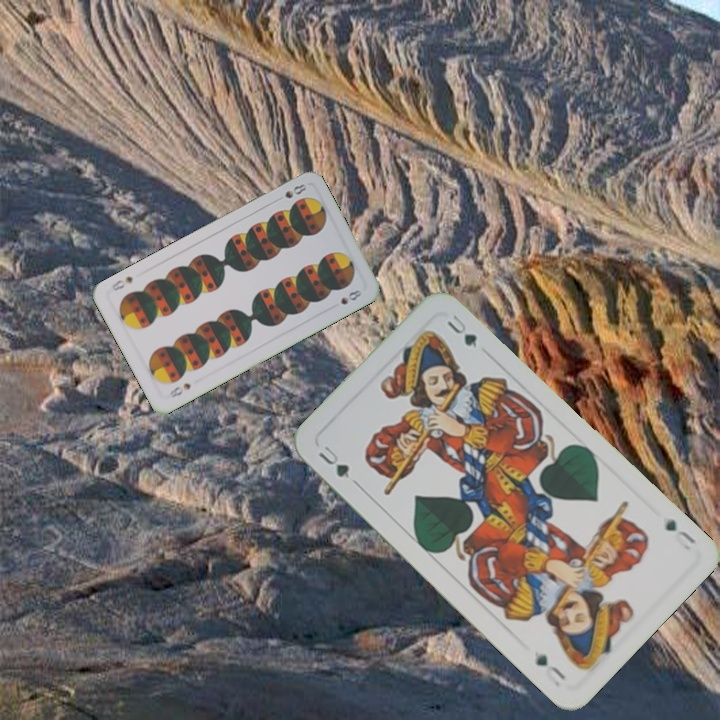GU: (314, 441, 354, 481), (661, 515, 699, 553)
S8: (165, 379, 194, 401), (281, 180, 309, 201)
